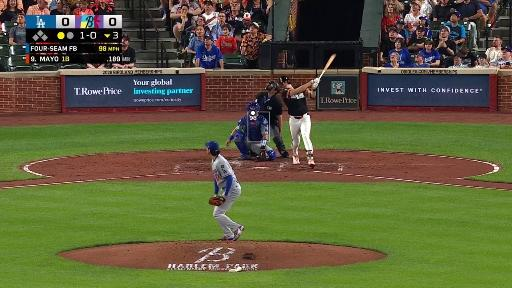pitcher: (205, 141, 249, 241)
